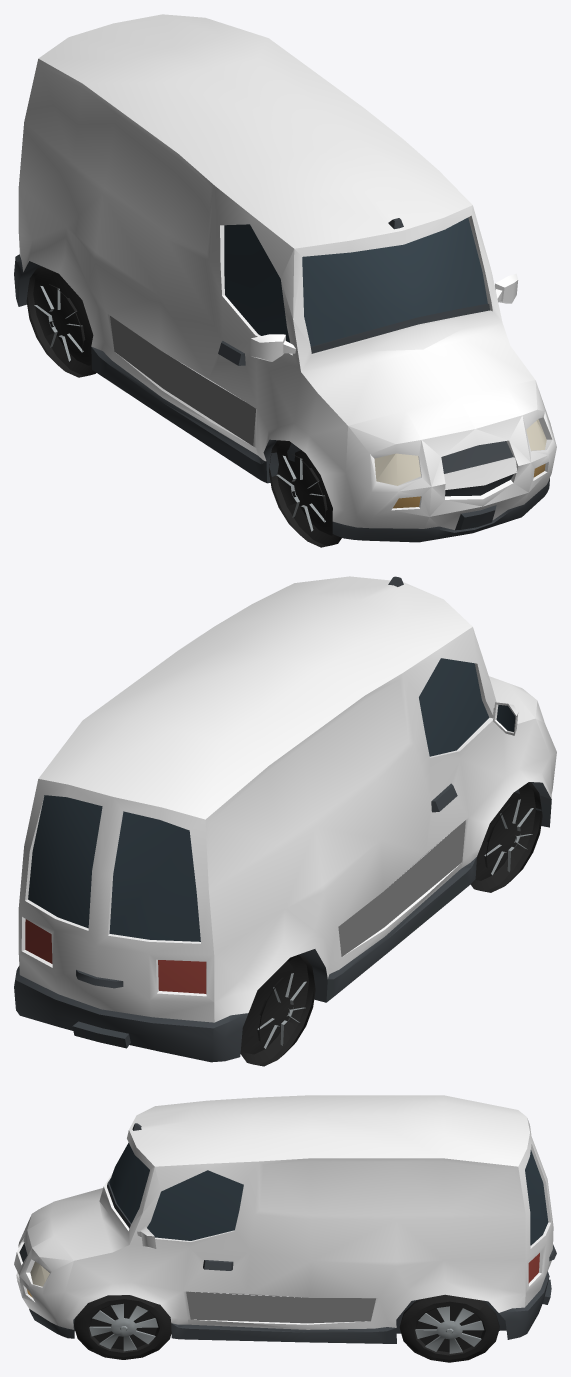
The model's file is car-van.glb.
The picture shows the model from 3 angles, top to bottom: view 1: azimuth 30°, elevation 25°; view 2: azimuth 150°, elevation 25°; view 3: azimuth 270°, elevation 25°; orthographic projection. The views are drawn at different scales.
Parts seen in each view (by area): view 1: lod0; view 2: lod0; view 3: lod0.
Part boxes in pixels (x1,y1,x2,y2): lod0: (14,14,556,547); lod0: (14,576,556,1066); lod0: (14,1095,556,1362).
Size of what is drawn, in the model's own units: 2.08 by 2.28 by 5.3.
